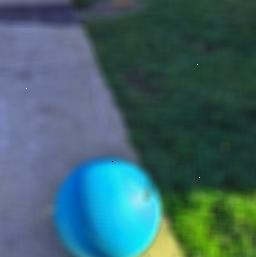algae: (57, 157, 163, 257)
